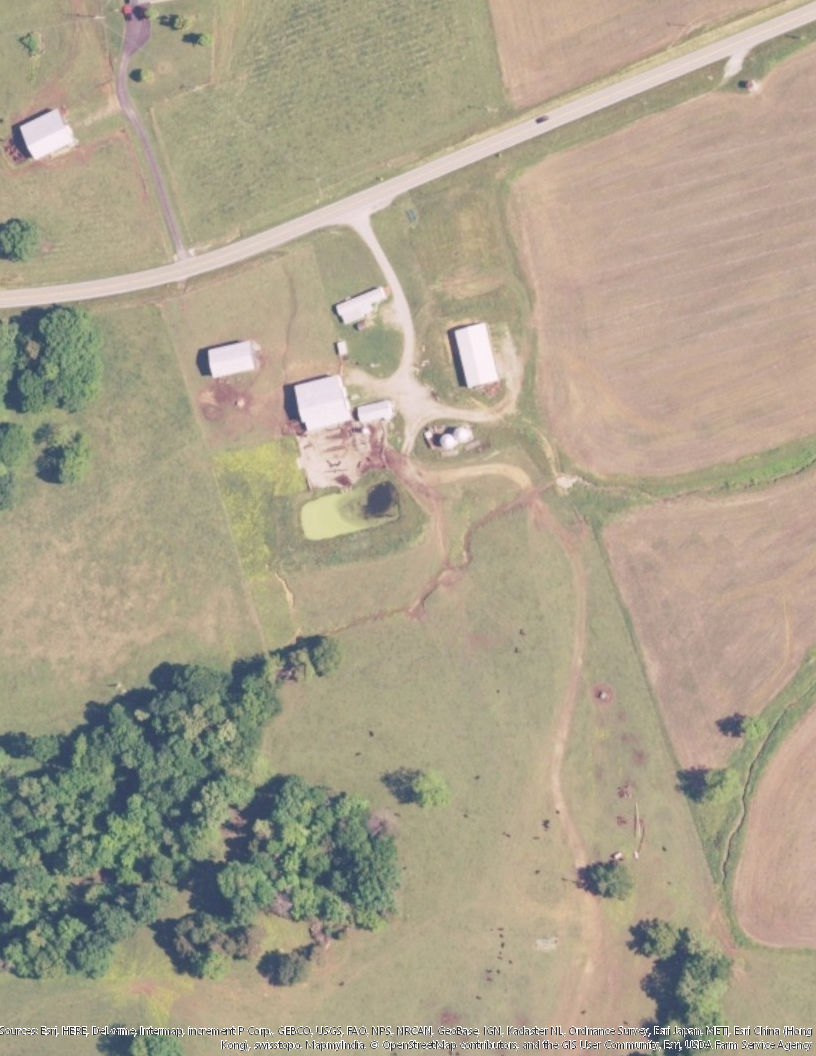cafo: (449, 316, 505, 391), (290, 372, 356, 434), (15, 109, 80, 161), (204, 338, 257, 380)
